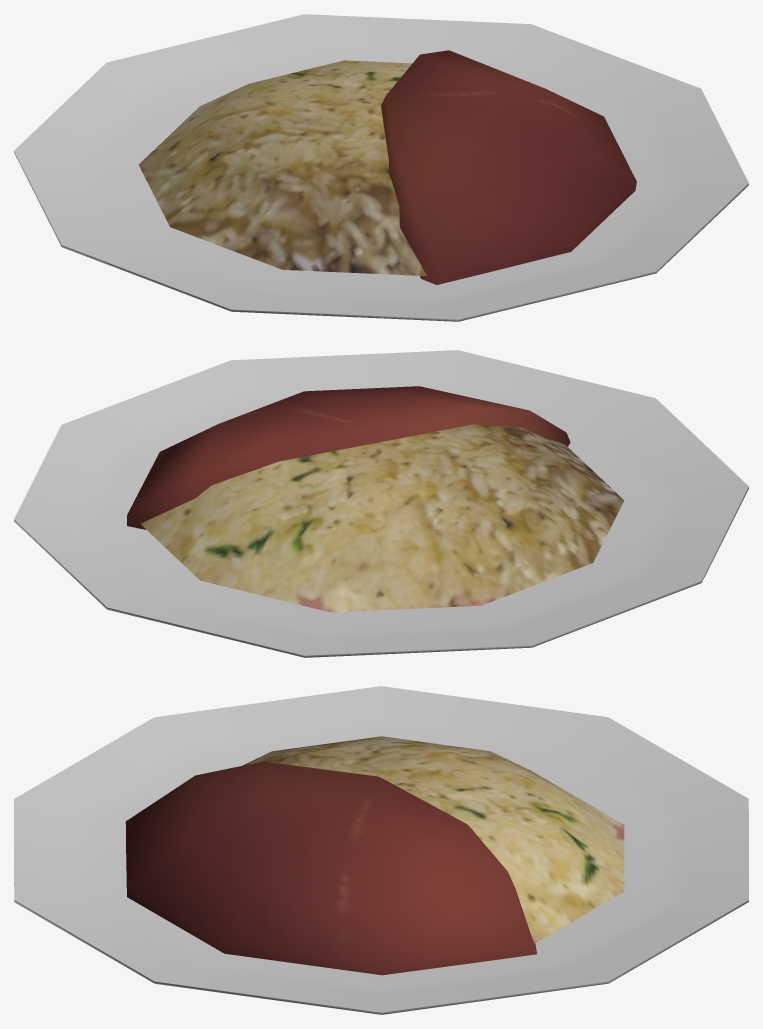
Rendered from prop_foodmenu01.fbx.
3 views of the same model, one above another, from view 1: azimuth 30°, elevation 25°; view 2: azimuth 150°, elevation 25°; view 3: azimuth 270°, elevation 25° (orthographic). The views are drawn at different scales.
Visible parts, largest first — view 1: prop_foodmenu01; view 2: prop_foodmenu01; view 3: prop_foodmenu01.
Boxes of the visible parts, box(x1,y1,x2,y2) form: prop_foodmenu01: box(14, 14, 748, 321); prop_foodmenu01: box(14, 350, 748, 657); prop_foodmenu01: box(14, 686, 748, 1014).
Bounding box in the file's own units: 0.3638 × 0.0535 × 0.346.
